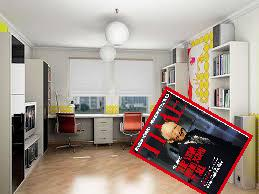times: (129, 86, 255, 193)
